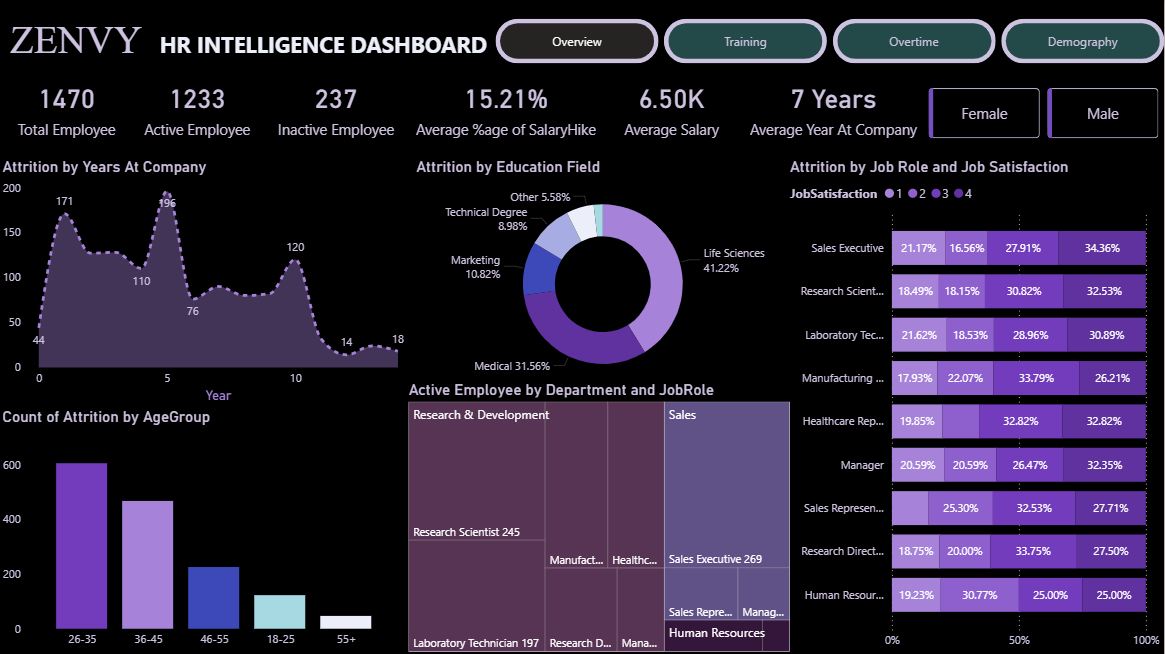

What the dashboard file says about the page in this screenshot:
{"tool":"powerbi","page":{"name":"Overview","canvas":[1280,720],"ordinal":0},"visuals":[{"type":"card","fields":{"Values":["_Measures.Total Employee"]},"box":[0,56.4,150.9,122.1],"z":0},{"type":"card","fields":{"Values":["_Measures.Active Employee"]},"box":[143.3,59.1,152.3,116.6],"z":1000},{"type":"card","fields":{"Values":["_Measures.Inactive Employee"]},"box":[287.9,56.4,166,122.1],"z":2000},{"type":"card","fields":{"Values":["_Measures.Years_With_Text"]},"box":[808.2,56.4,218.2,122.1],"z":3000},{"type":"card","fields":{"Values":["_Measures.Avg_Salary"]},"box":[662.2,56.4,153.7,122.1],"z":4000},{"type":"card","fields":{"Values":["_Measures.Average %age of SalaryHike"]},"box":[446.2,62.6,223.7,109.8],"z":5000},{"type":"areaChart","title":"Attrition by Years At  Company","fields":{"Category":["clean HR data.YearsAtCompany"],"Y":["CountNonNull(clean HR data.Attrition)"]},"box":[0,172.9,454.2,274.4],"z":6000},{"type":"donutChart","title":"Attrition by Education Field","fields":{"Y":["CountNonNull(clean HR data.Attrition)"],"Category":["clean HR data.EducationField"]},"box":[454.2,172.9,419.9,259.3],"z":7000},{"type":"clusteredColumnChart","fields":{"Category":["clean HR data.AgeGroup"],"Y":["CountNonNull(clean HR data.Attrition)"]},"box":[0,447.3,446,273.1],"z":8000},{"type":"hundredPercentStackedBarChart","title":"Attrition by Job Role and Job Satisfaction","fields":{"Y":["CountNonNull(clean HR data.Attrition)"],"Series":["clean HR data.JobSatisfaction"],"Category":["clean HR data.JobRole"]},"box":[864.5,172.9,415.8,547.5],"z":9000},{"type":"treemap","fields":{"Group":["clean HR data.Department"],"Details":["clean HR data.JobRole"],"Values":["_Measures.Active Employee"]},"box":[446,417.2,428.1,303.3],"z":10000},{"type":"advancedSlicerVisual","fields":{"Values":["clean HR data.Gender"]},"box":[1016.8,91.9,263.5,65.9],"z":11000},{"type":"textbox","box":[8.2,13.7,558.5,63.1],"z":12000},{"type":"pageNavigator","box":[545.9,20.6,734.1,49.4],"z":13000}]}

Visuals, with their boxes in screenshot pixels (x1, y1, x2, y2), scaled from the page's 1280x720 canvas onto the 1165x654 screenshot:
card - _Measures.Total Employee: <region>0, 51, 137, 162</region>
card - _Measures.Active Employee: <region>130, 54, 269, 160</region>
card - _Measures.Inactive Employee: <region>262, 51, 413, 162</region>
card - _Measures.Years_With_Text: <region>736, 51, 934, 162</region>
card - _Measures.Avg_Salary: <region>603, 51, 743, 162</region>
card - _Measures.Average %age of SalaryHike: <region>406, 57, 610, 157</region>
"Attrition by Years At  Company" areaChart: <region>0, 157, 413, 406</region>
"Attrition by Education Field" donutChart: <region>413, 157, 796, 393</region>
clusteredColumnChart - clean HR data.AgeGroup x CountNonNull(clean HR data.Attrition): <region>0, 406, 406, 653</region>
"Attrition by Job Role and Job Satisfaction" hundredPercentStackedBarChart: <region>787, 157, 1164, 653</region>
treemap - clean HR data.Department x clean HR data.JobRole: <region>406, 379, 796, 653</region>
advancedSlicerVisual - clean HR data.Gender: <region>925, 83, 1164, 143</region>
textbox: <region>7, 12, 516, 70</region>
pageNavigator: <region>497, 19, 1164, 64</region>
